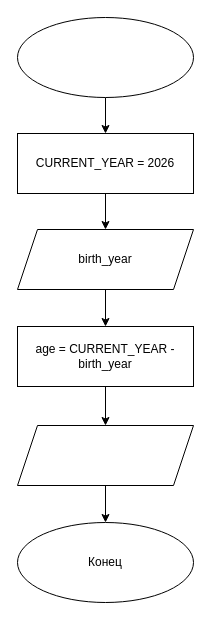
The diagram is 211 pixels wide and 620 high, and some of its shapes have lost their labels. Here are the shapes that lost their labels. From the top down, the centre of each, then its label:
pixel 105 57: Начало
pixel 105 455: age
